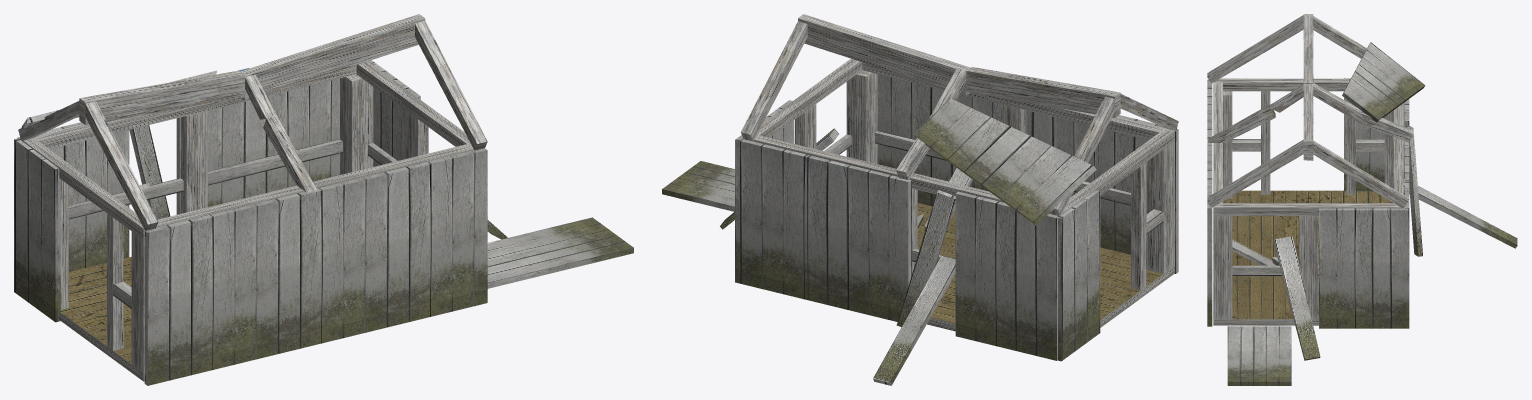
Rendered from shed.gltf.
The picture shows the model from 3 angles, left to right: view 1: azimuth 30°, elevation 25°; view 2: azimuth 150°, elevation 25°; view 3: azimuth 270°, elevation 25°; orthographic projection. The views are drawn at different scales.
Visible parts, largest first — view 1: shed; view 2: shed; view 3: shed.
Boxes of the visible parts, <box> form: shed: <box>14,14,633,385</box>; shed: <box>662,14,1178,385</box>; shed: <box>1207,14,1517,385</box>.
Size of the model in its own units: 12.14 by 5.47 by 8.17.
Materials: 9 (9 with a texture image).
